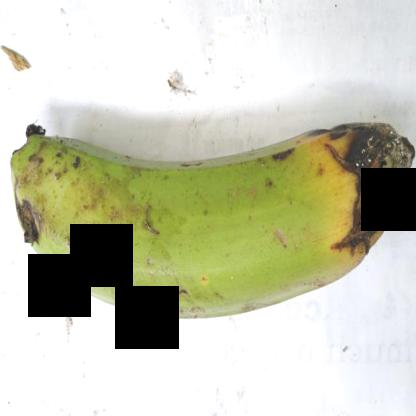rotten: (276, 87, 416, 306)
unripe: (11, 113, 314, 339)
